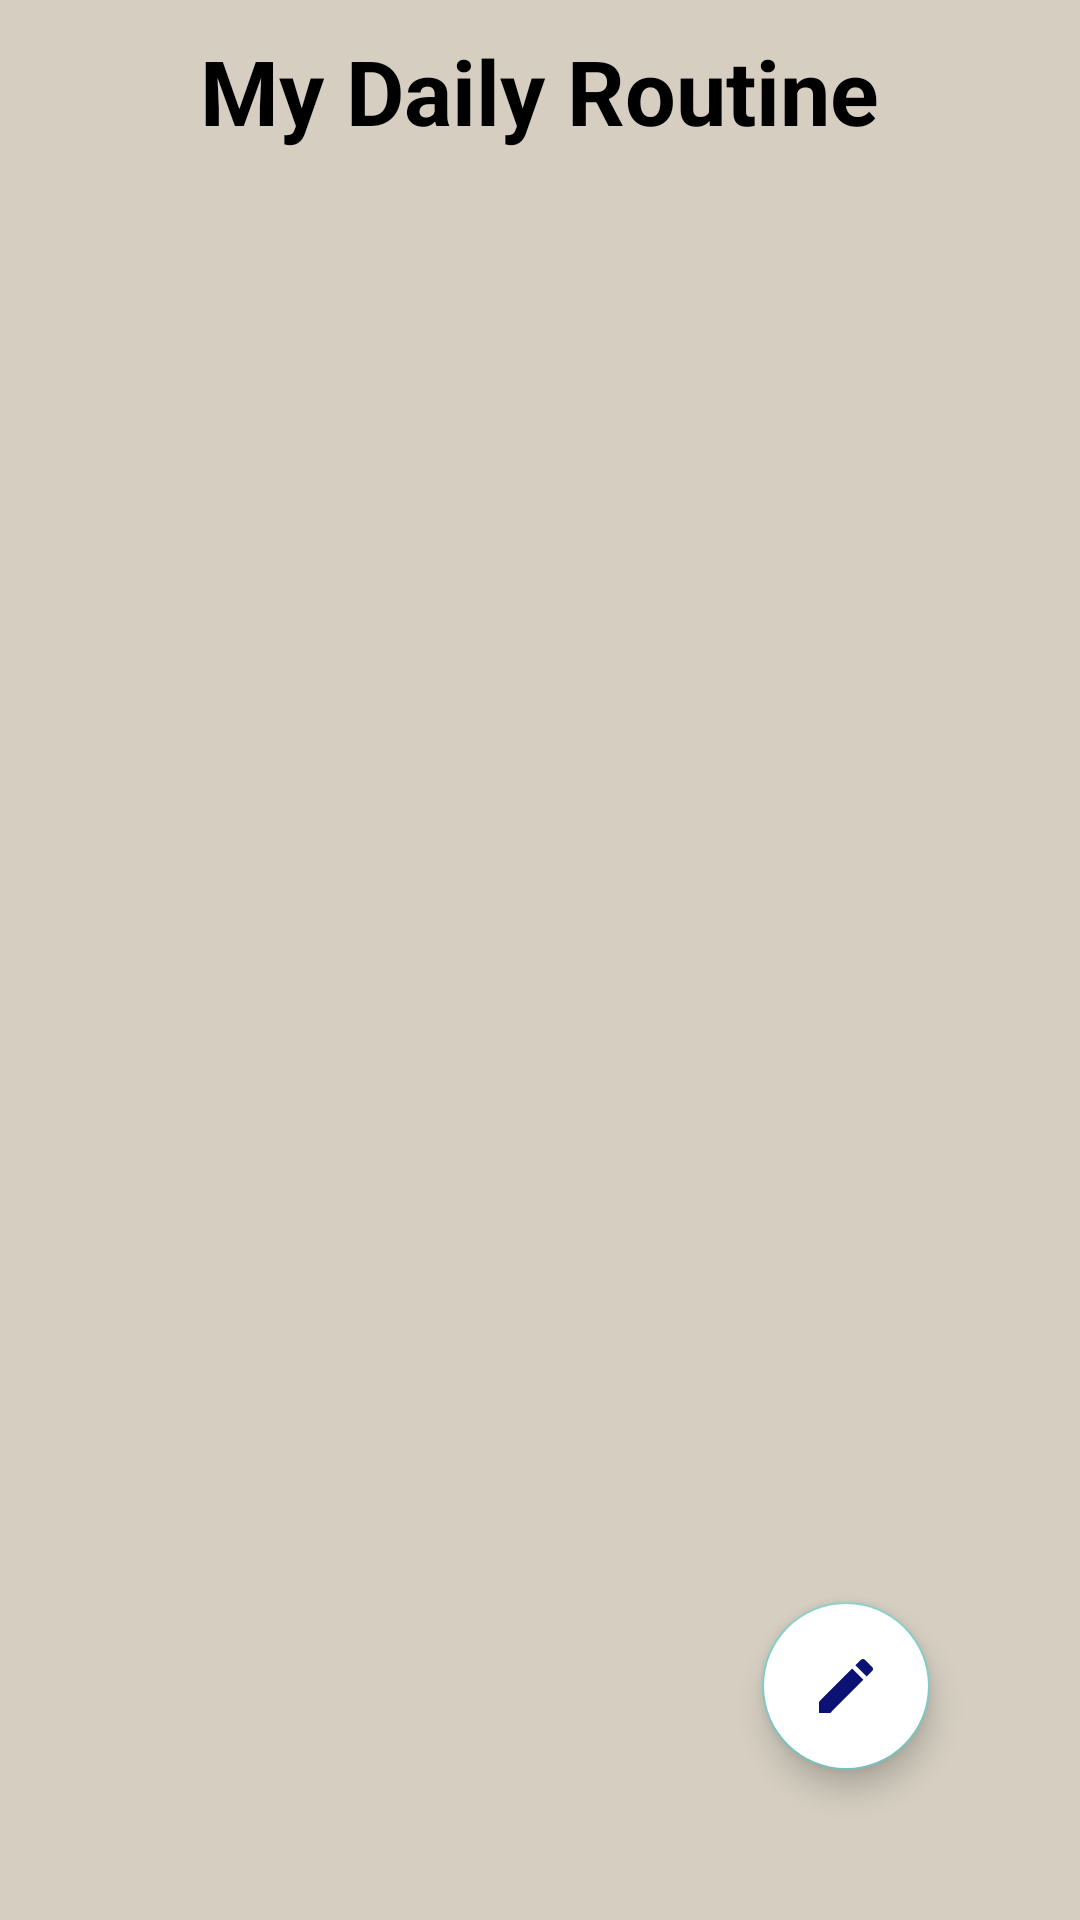

Point at icon controls on the screen. Image size 1080 x 1920, points as (x,y).
edit: (846,1686)
